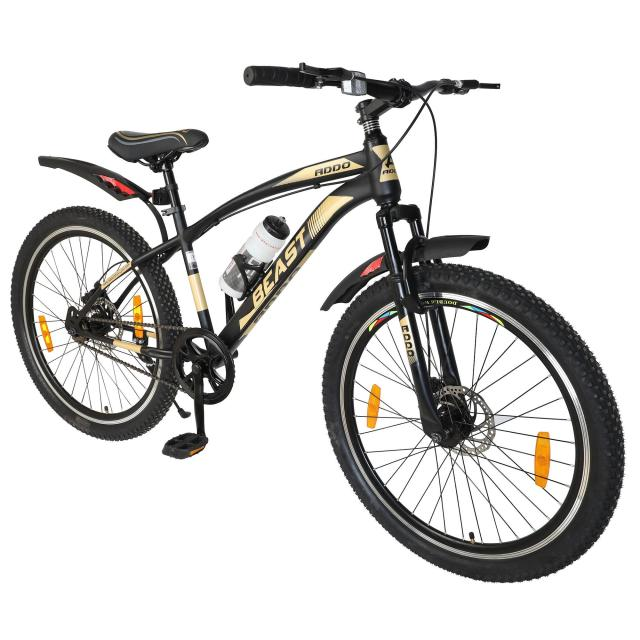bicycle: (11, 64, 624, 581)
